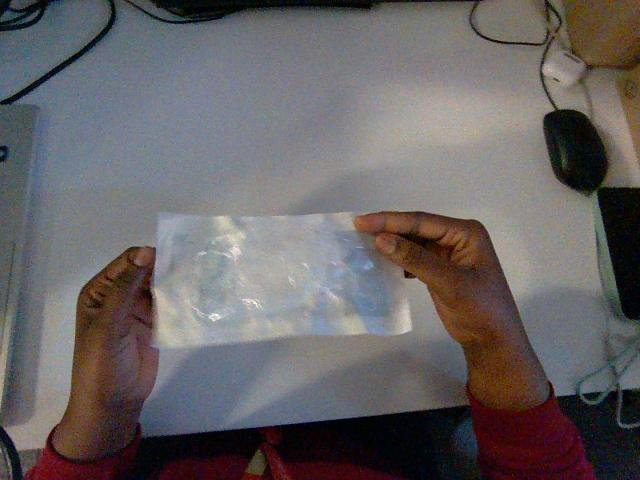gallipot: (154, 213, 410, 347)
